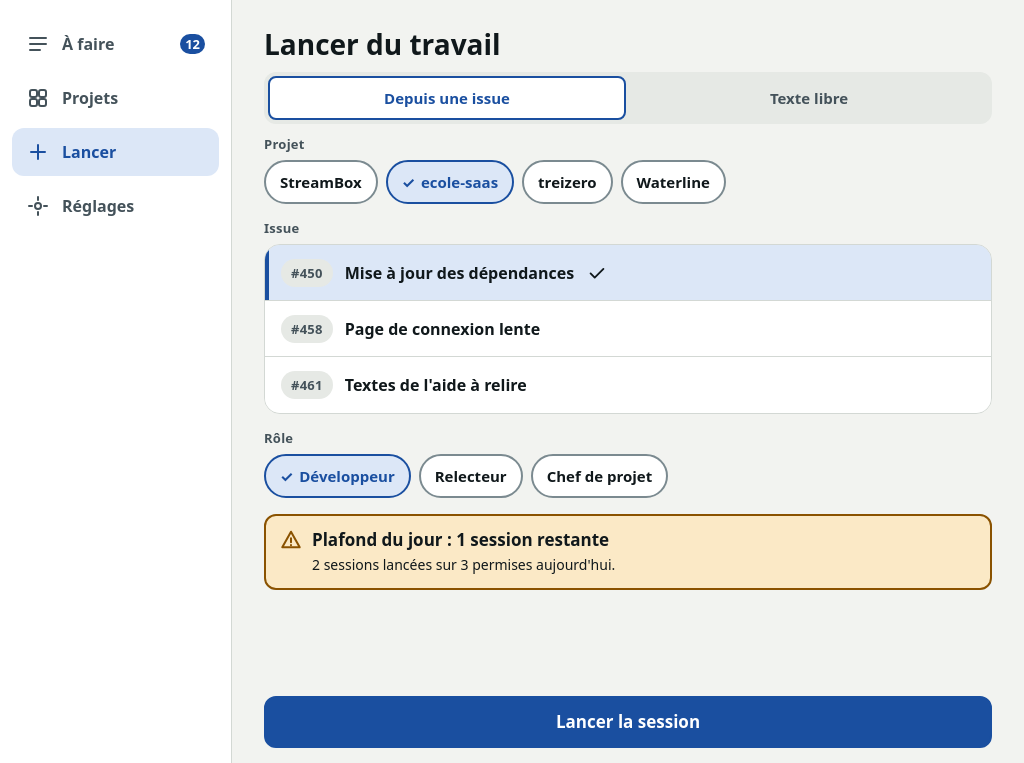
Sessions lancées › de bout en bout : lancer depuis une issue l’affiche sur l’accueil et dans le projet
This screenshot has width=1024, height=763.
Click the button "#458 Page de connexion lente". click: click(307, 328)
box: [265, 301, 991, 357]
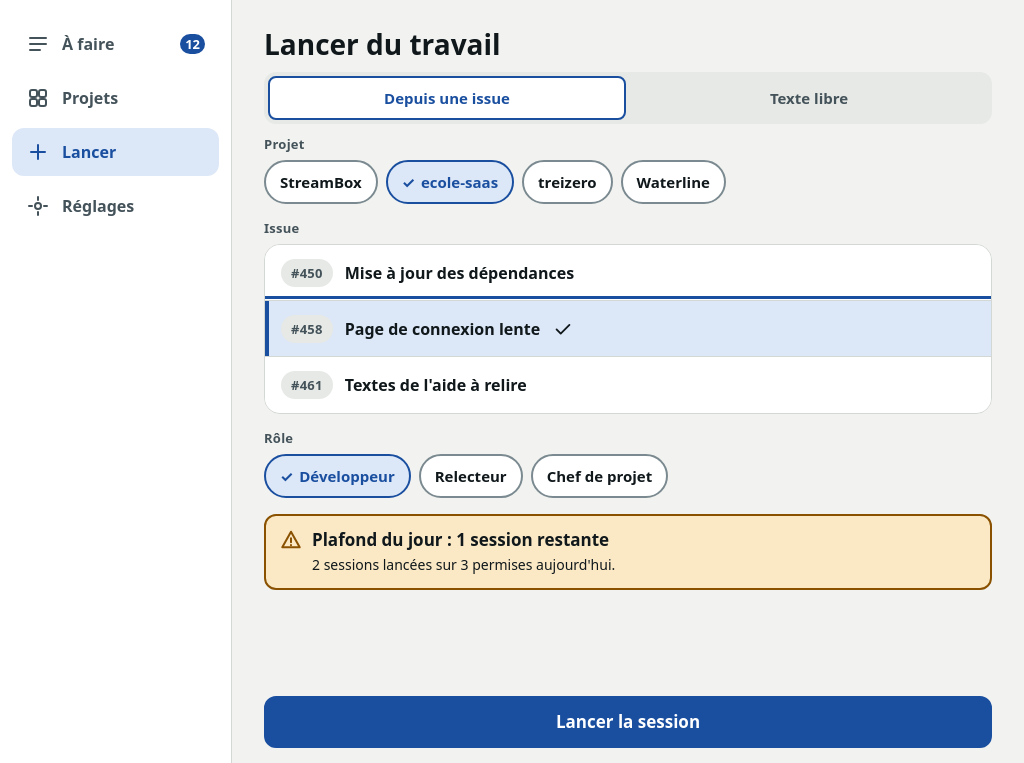
Click the button "Lancer la session". click: click(628, 722)
box: [264, 696, 992, 748]
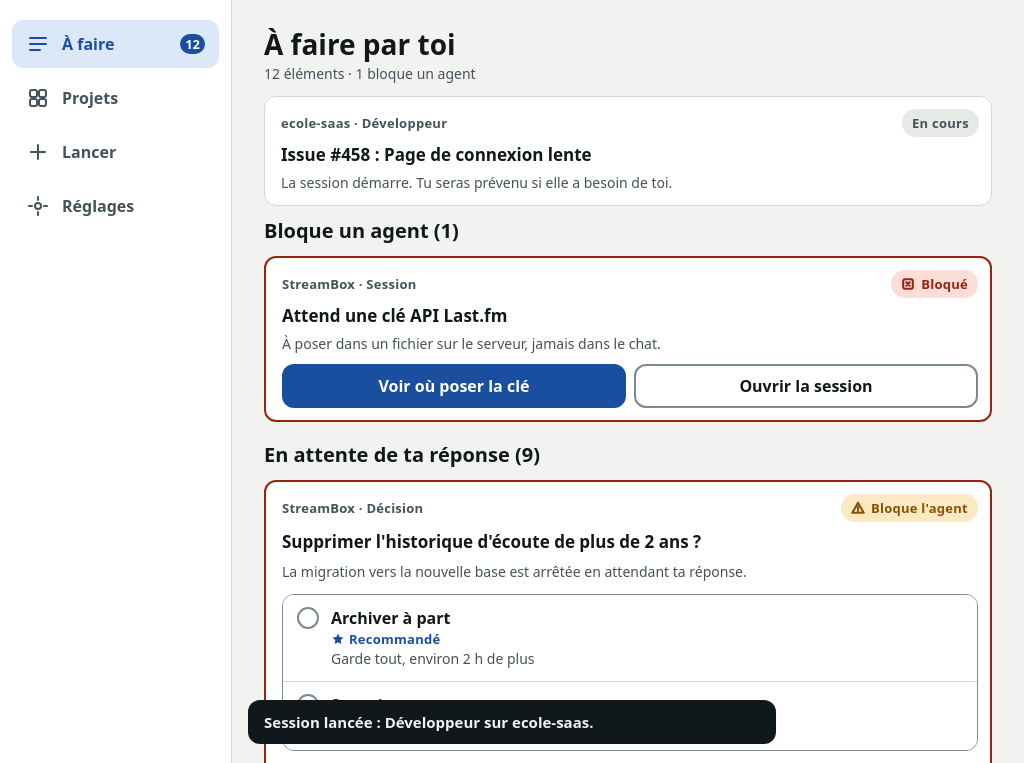
Check: the element that starts with "ecole-saas · Développeur" is shown, box [281, 114, 447, 132]
Check: the element that starts with "ecole-saas · Développeur" shows "Issue #458 : Page de connexion lente", box [281, 143, 592, 166]
Check: the text "12 éléments · 1 bloque un agent" is shown, box [264, 64, 476, 84]
